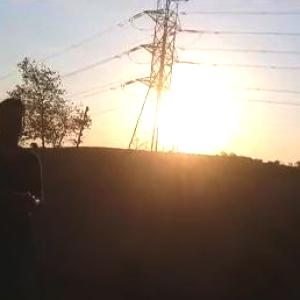follow: (0, 93, 54, 299)
